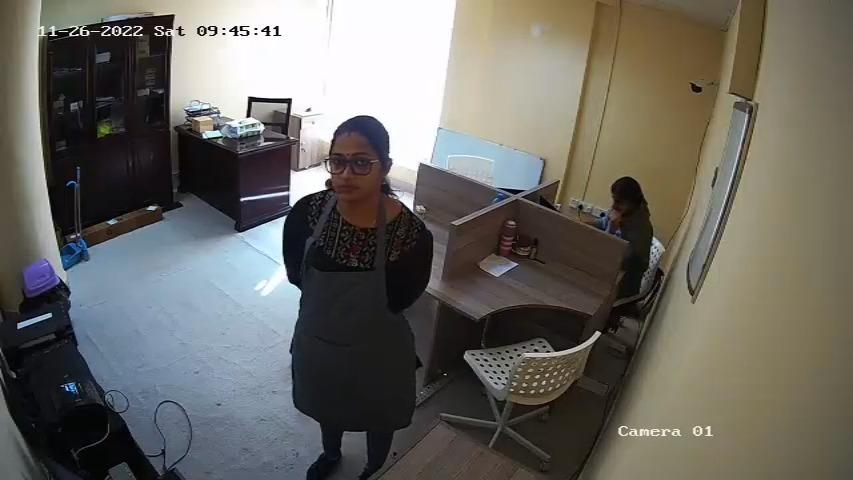apron: (296, 202, 410, 413)
